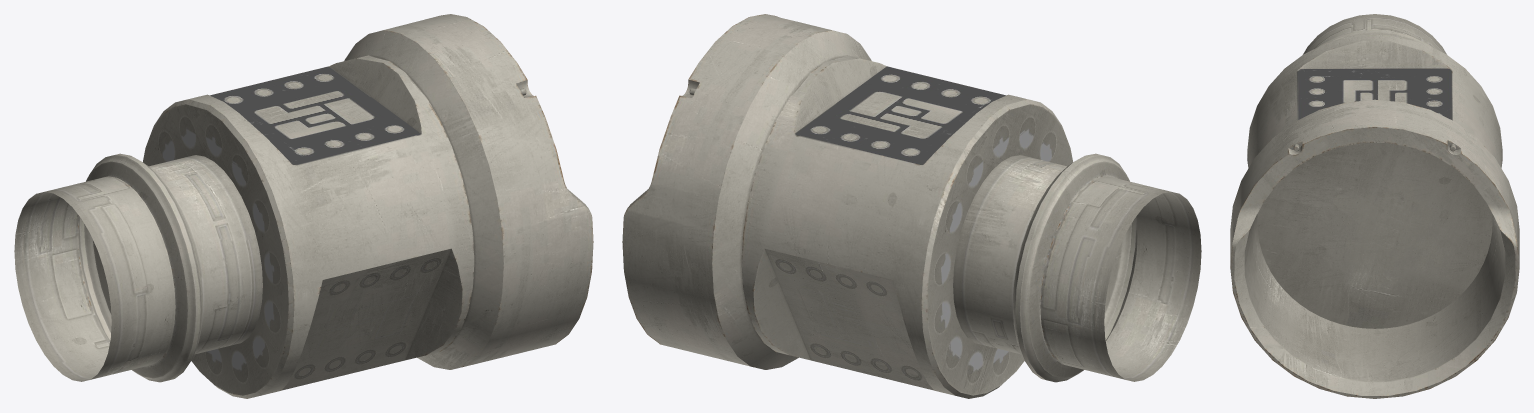
Rendered from guard_16_u_d.glb.
3 renders of one model, left to right at view 1: azimuth 30°, elevation 25°; view 2: azimuth 150°, elevation 25°; view 3: azimuth 270°, elevation 25°, orthographic. The views are drawn at different scales.
Visible parts, largest first — view 1: guard_16_u_d_lod0; view 2: guard_16_u_d_lod0; view 3: guard_16_u_d_lod0.
Part boxes in pixels (left/top/right/bottom): guard_16_u_d_lod0: left=14, top=14, right=593, bottom=398; guard_16_u_d_lod0: left=622, top=14, right=1201, bottom=398; guard_16_u_d_lod0: left=1230, top=14, right=1519, bottom=398.
Size of what is drawn, in the model's own units: 0.0556 by 0.0375 by 0.0375.
Materials: 1 (1 with a texture image).
